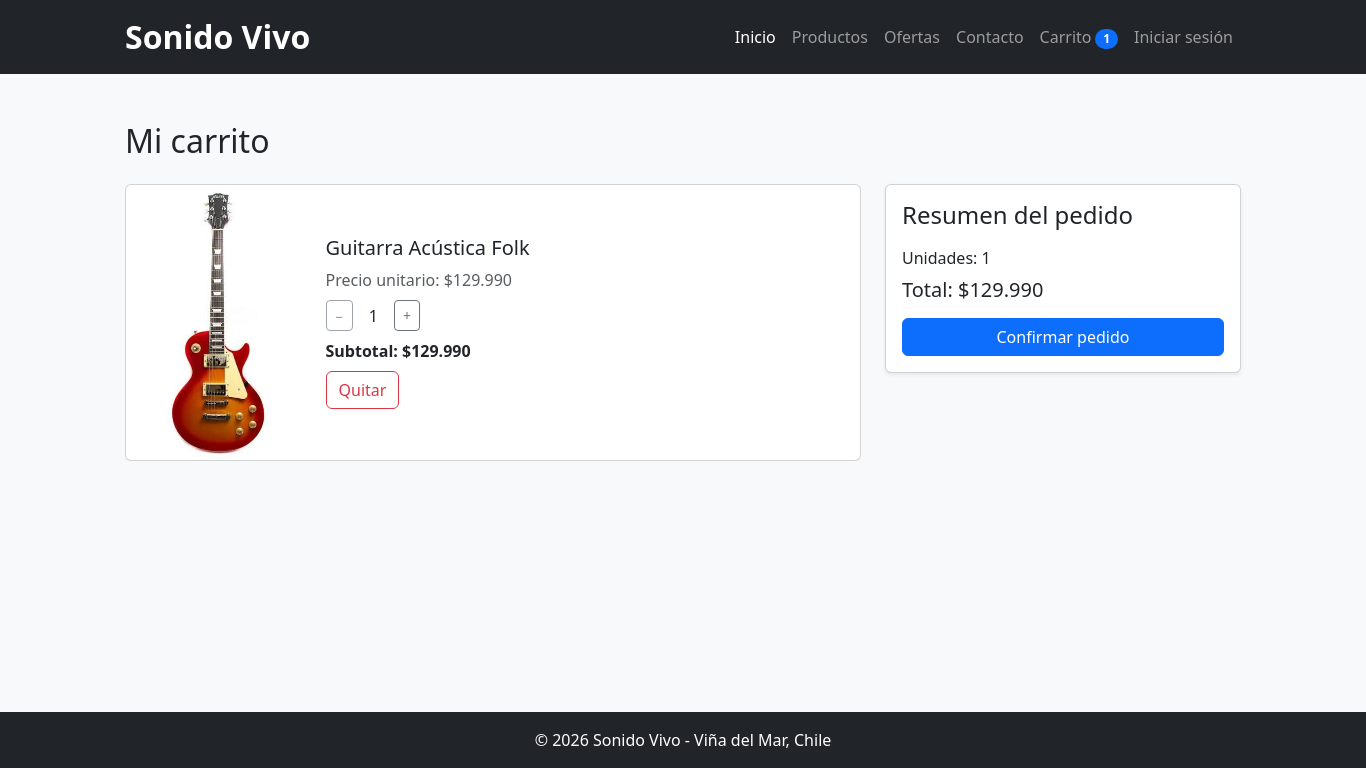
it: CartPage › quita el producto, muestra el carrito vacío y lo guarda
Click the button "Quitar" at [362, 390], box [326,371,399,409]
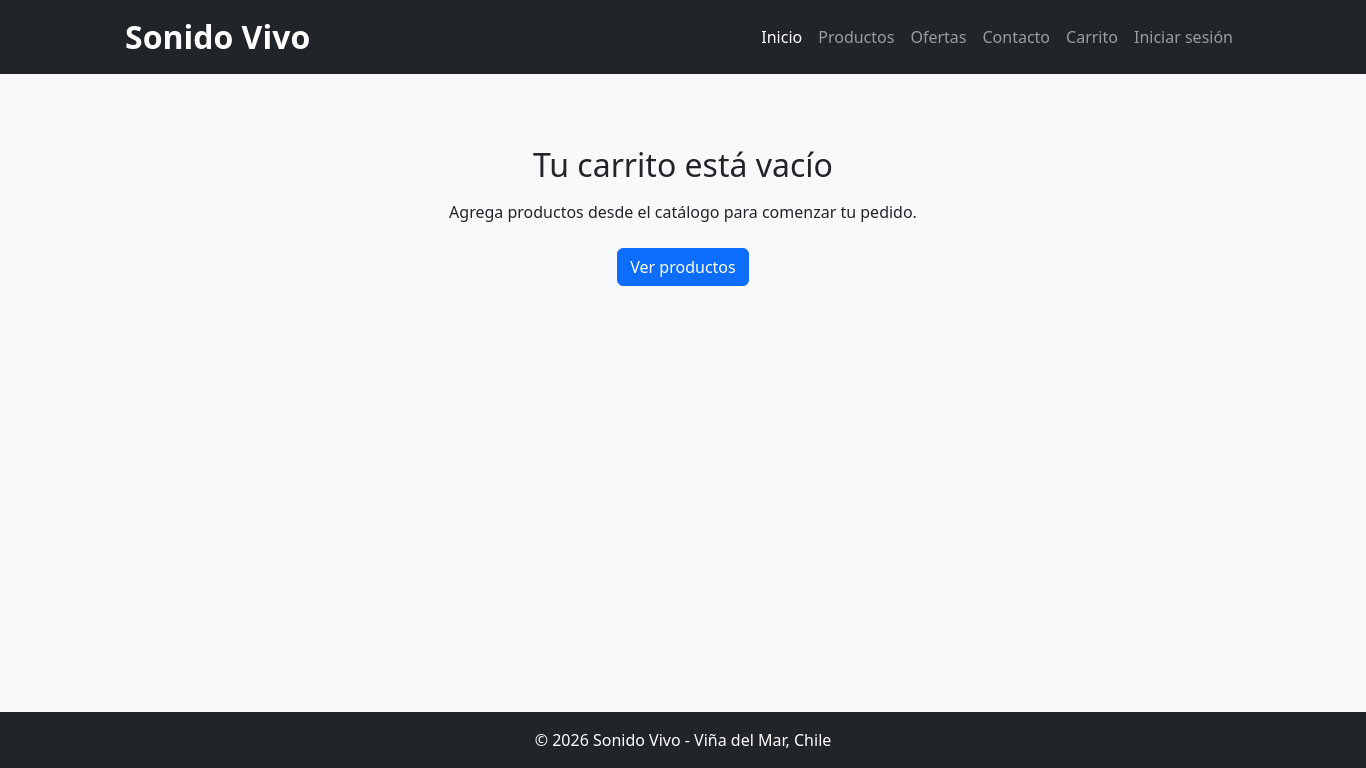
Check: the heading "Tu carrito está vacío" is shown, box [533,143,833,186]
